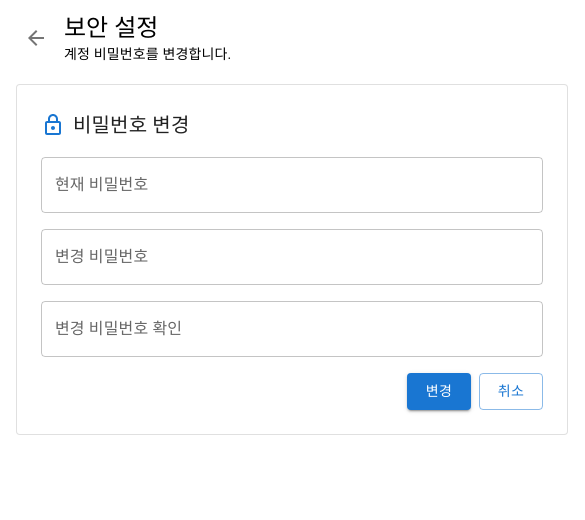
SecuritySettingsPage › requires matching new passwords before submitting
In the password field labelled "현재 비밀번호": (292, 185) [41, 157, 543, 213], type "current-password"
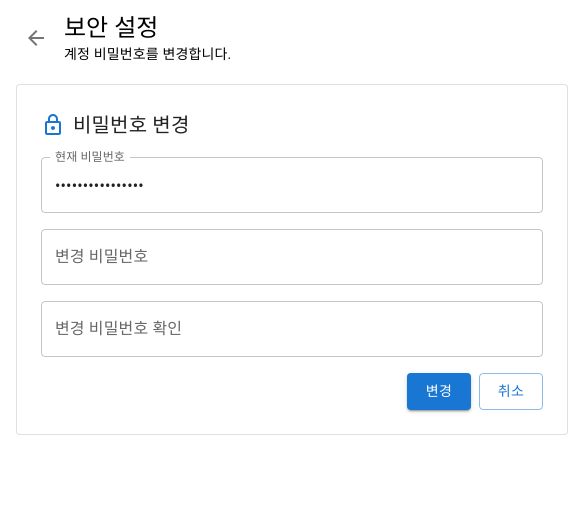
In the password field labelled "변경 비밀번호": (292, 257) [41, 229, 543, 285], type "new-password"
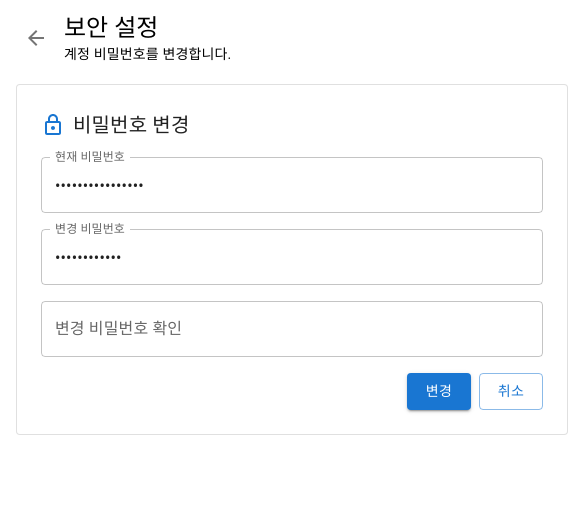
In the password field labelled "변경 비밀번호 확인": (292, 329) [41, 301, 543, 357], type "different-password"
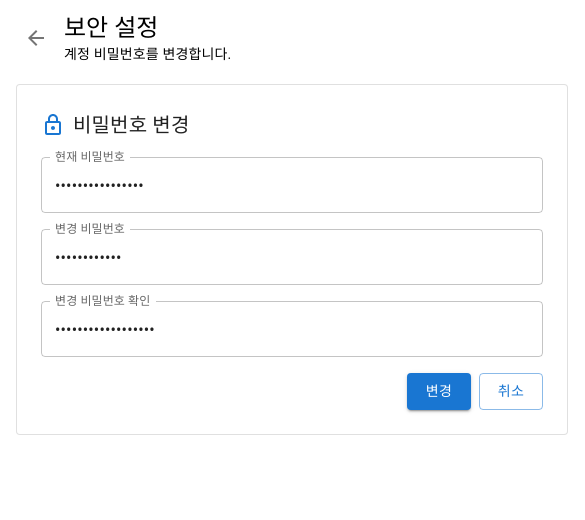
Click the button "변경": (439, 391) [407, 373, 471, 410]
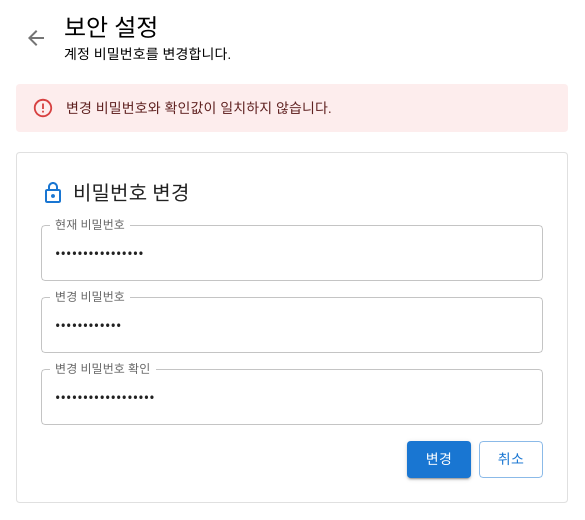
Expected: the text "변경 비밀번호와 확인값이 일치하지 않습니다." is shown, [66, 100, 332, 116]
